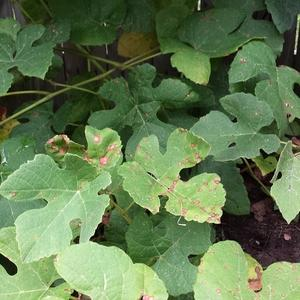grape leaf: (1, 155, 109, 267), (123, 131, 227, 227), (228, 43, 300, 138), (194, 238, 299, 300), (175, 8, 247, 54)
